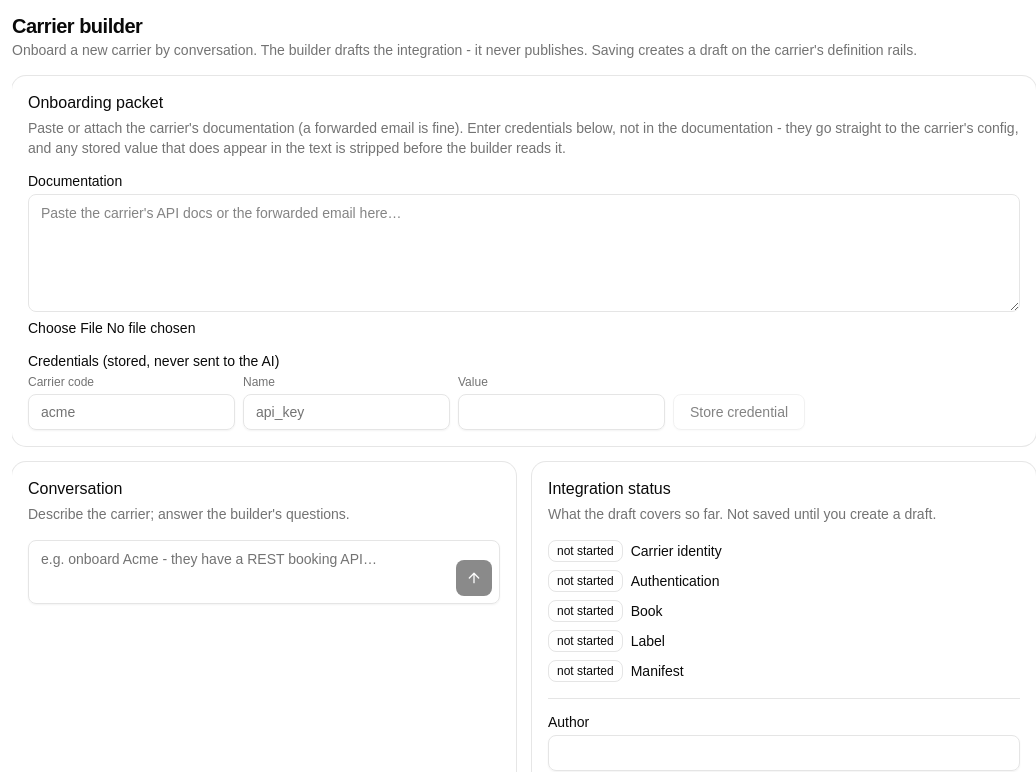
Scenario: CarrierBuilderPage › sends the pasted documentation packet with each turn
The image size is (1036, 772).
In the text box labelled "Documentation": (524, 253) [28, 194, 1020, 312], type "Acme API: POST /book"
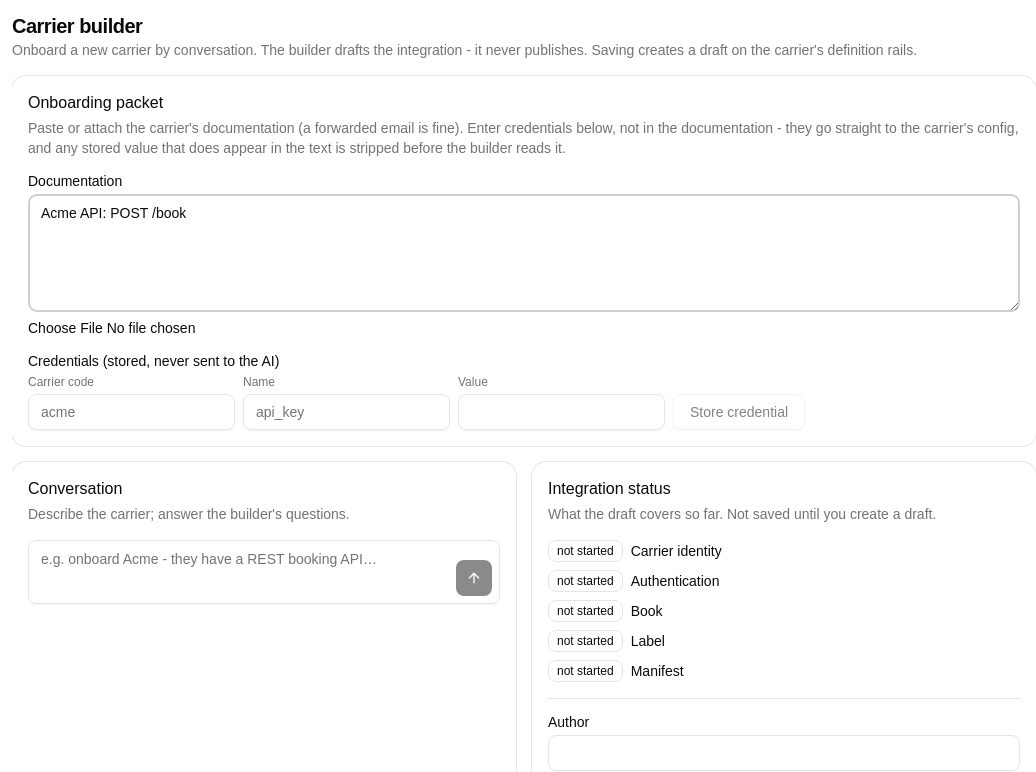
In the text box named "message the carrier builder": (264, 572) [28, 540, 500, 604], type "onboard acme"
Then press Enter
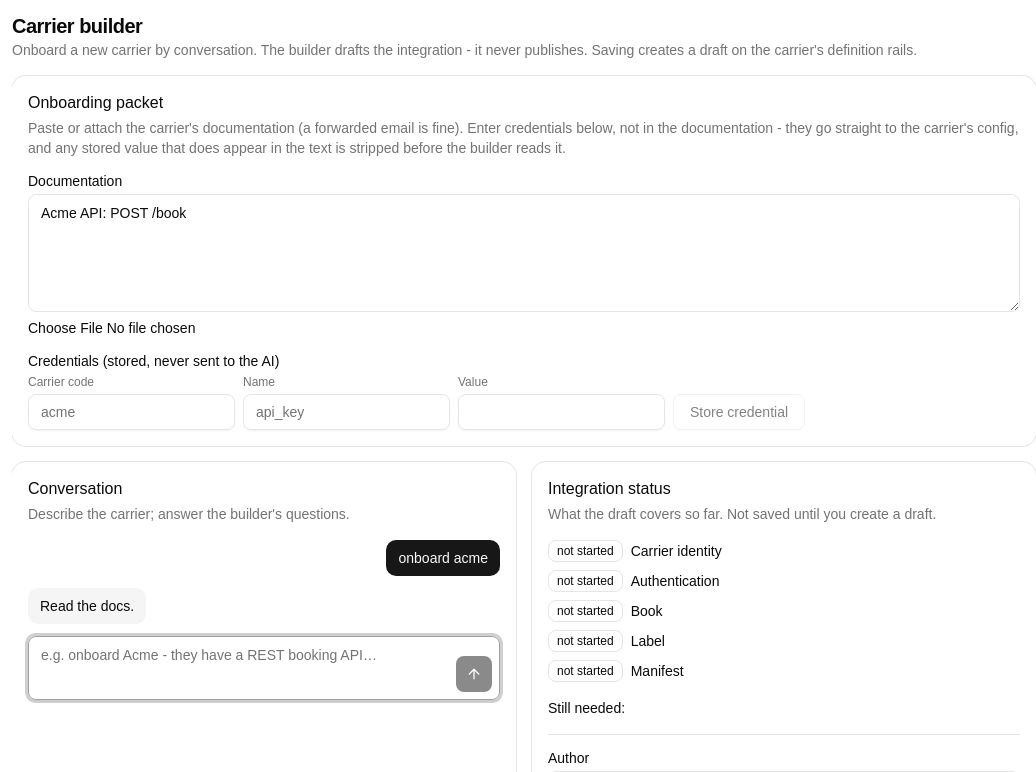
Now the text "Read the docs." is shown, box [28, 588, 146, 624]
